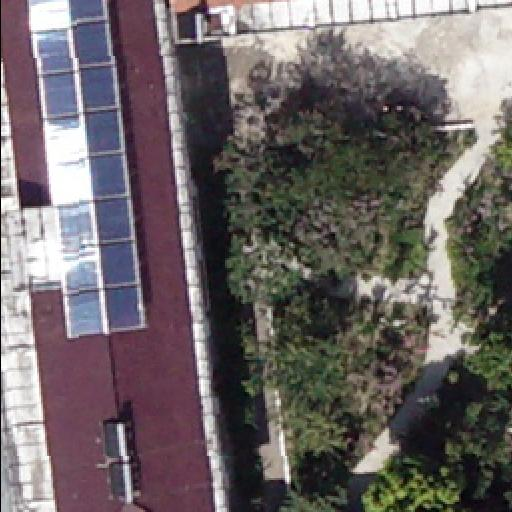solar-panel: (16, 0, 146, 352)
